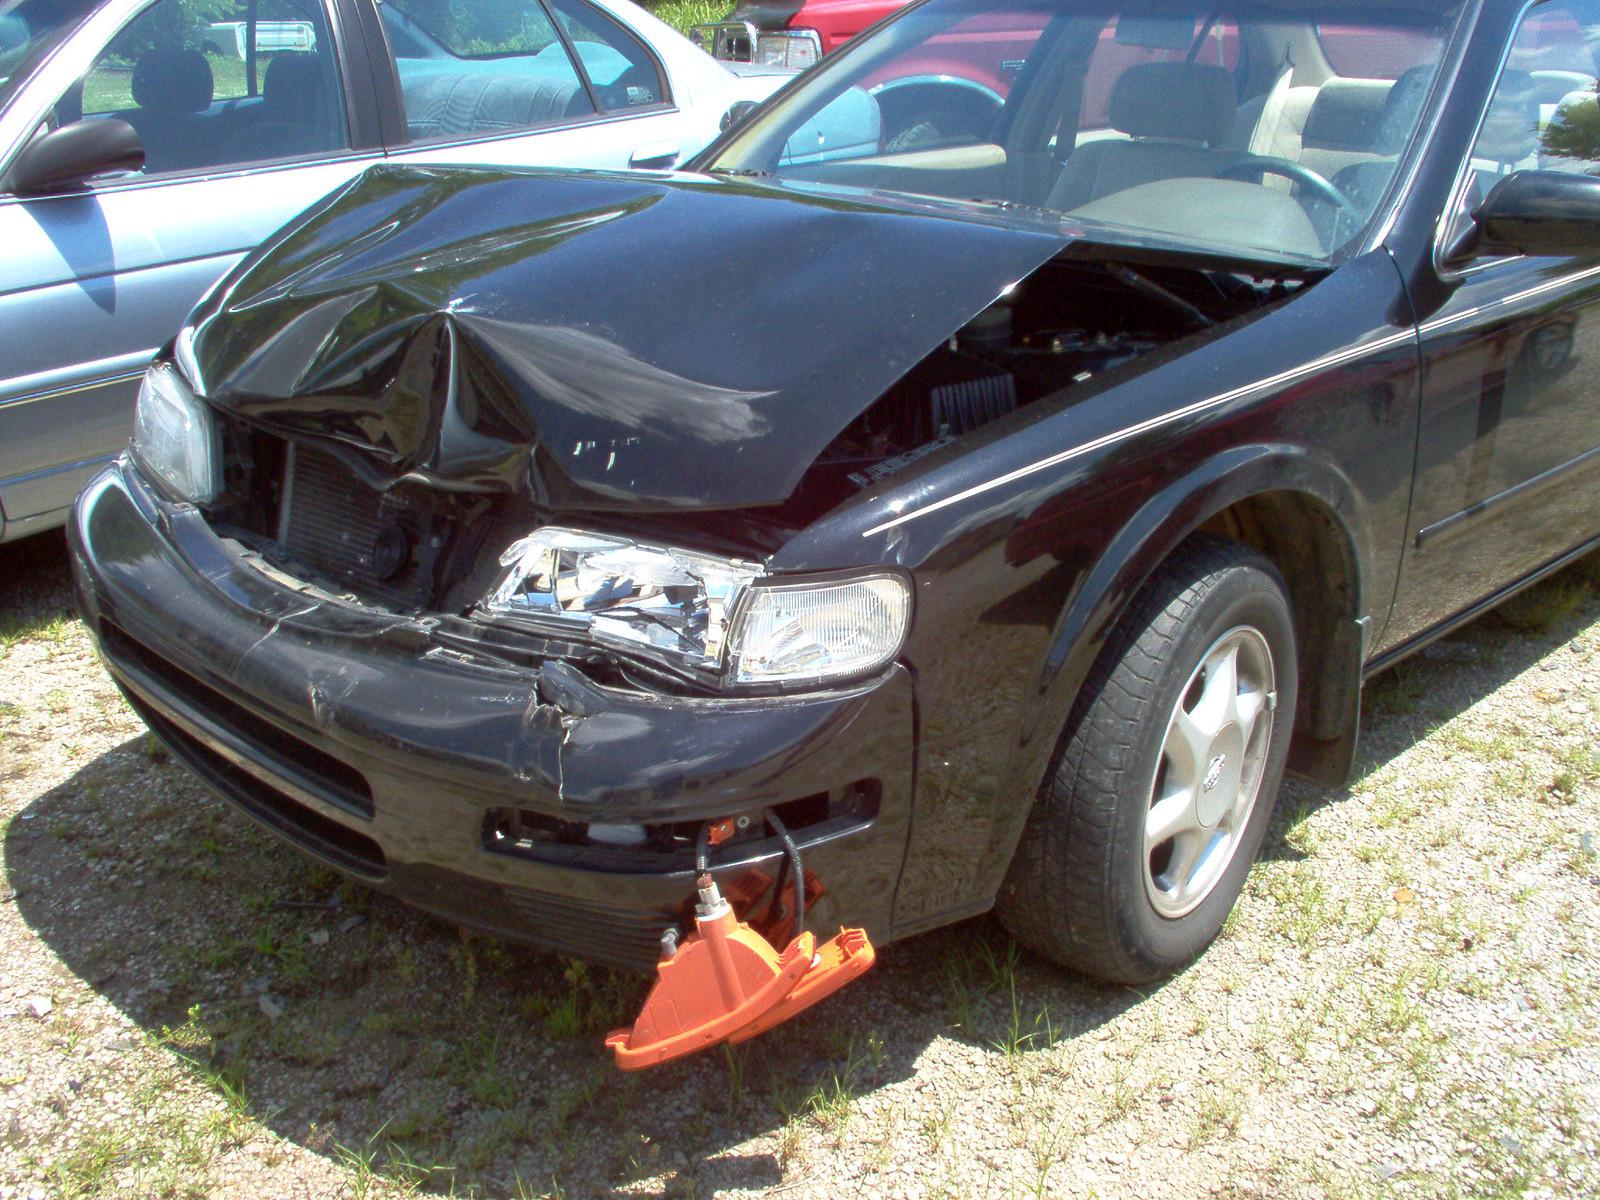Headlight-Damage: (428, 521, 920, 763)
bonnet-dent: (208, 113, 1077, 442)
front-bumper-dent: (174, 653, 808, 937)
